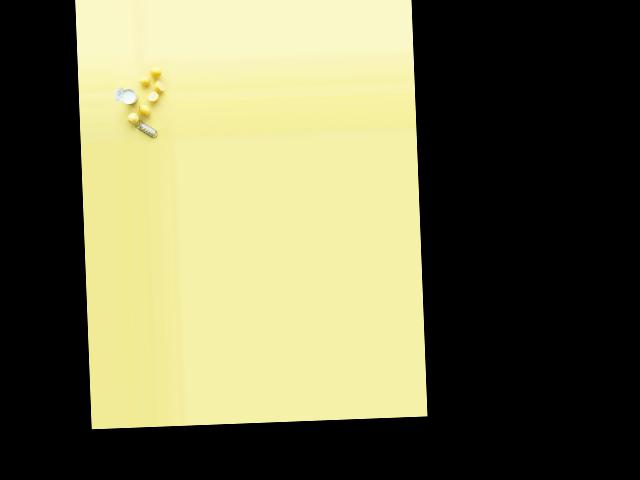lemon: (126, 110, 140, 122)
